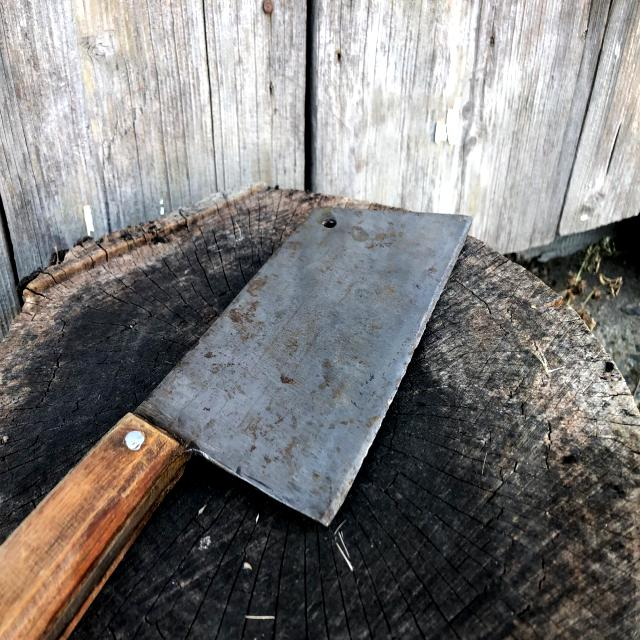cleaver: (11, 205, 476, 640)
